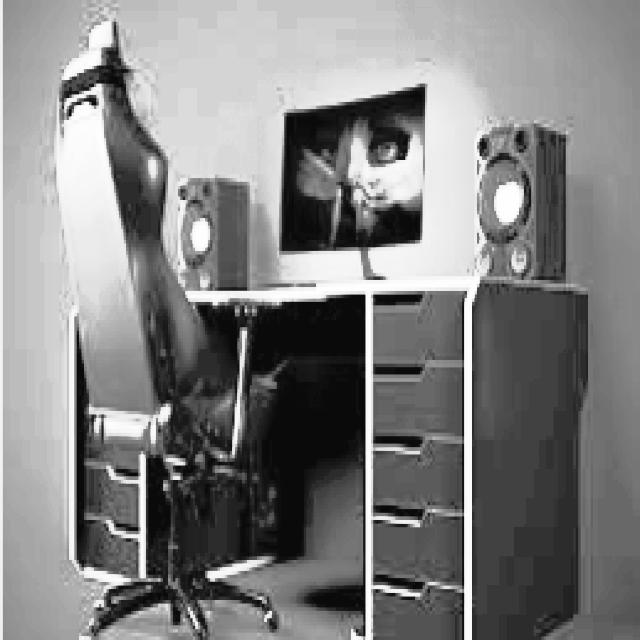book: (52, 19, 287, 636)
table: (183, 276, 472, 636)
